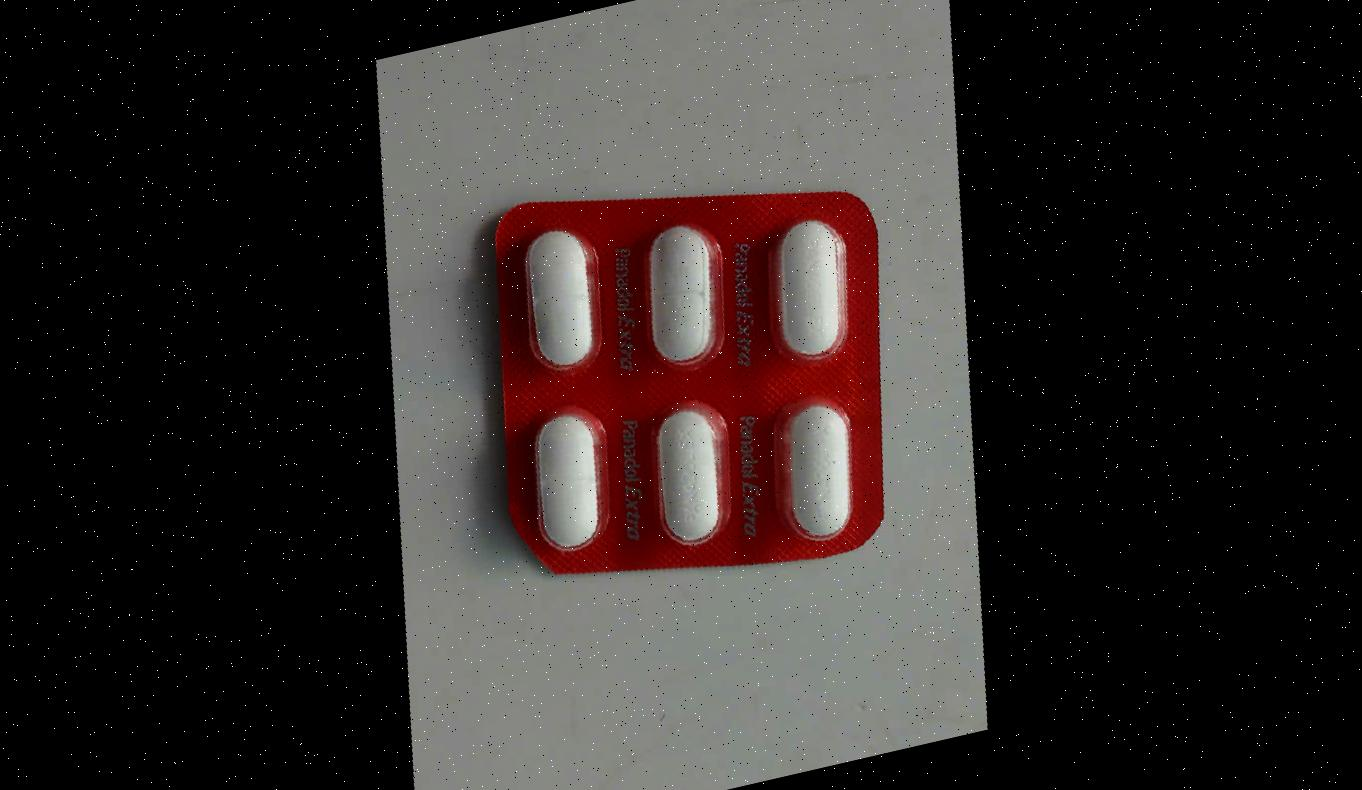Full: (515, 221, 612, 379), (762, 209, 859, 367), (639, 393, 735, 551), (634, 215, 730, 373), (770, 389, 866, 547), (523, 399, 619, 556)
